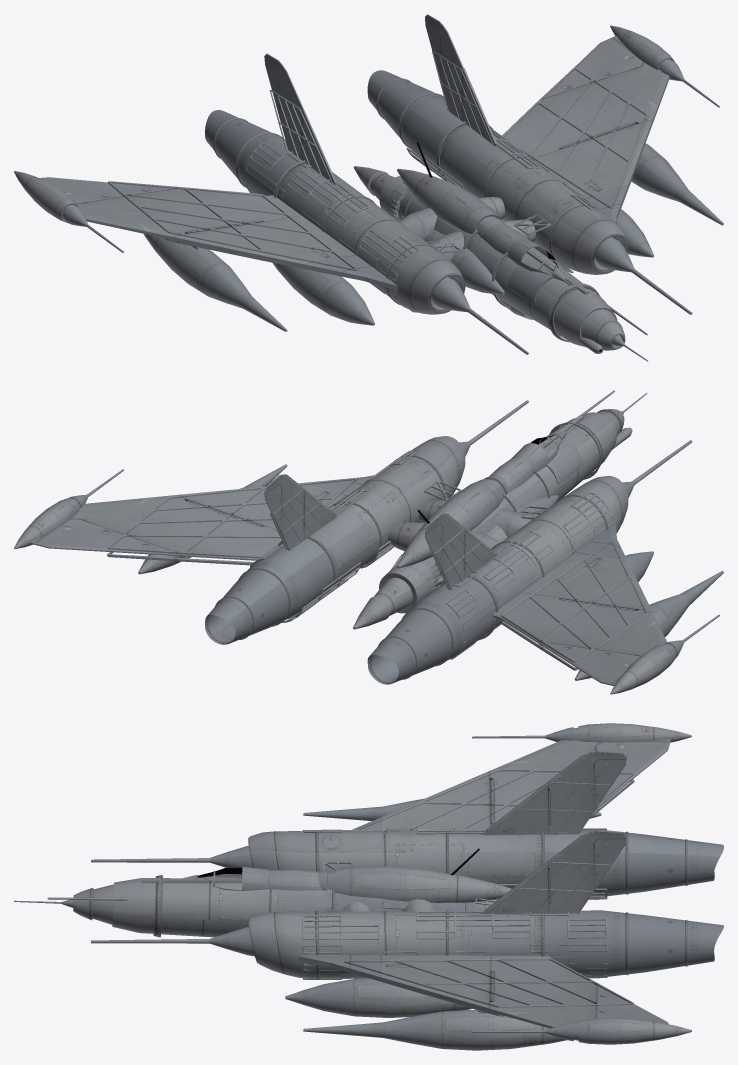
The model's file is mig60.glb.
The picture shows the model from 3 angles, top to bottom: view 1: azimuth 30°, elevation 25°; view 2: azimuth 150°, elevation 25°; view 3: azimuth 270°, elevation 25°; orthographic projection.
Visible parts, largest first — view 1: Object_4; view 2: Object_4; view 3: Object_4.
Boxes of the visible parts, x1,y1,x2,y2 form: Object_4: [14, 14, 723, 361]; Object_4: [14, 390, 723, 694]; Object_4: [14, 723, 723, 1050].
Size of the model in its own units: 13.32 by 3.2 by 13.06.
Materials: 2 (1 with a texture image).
